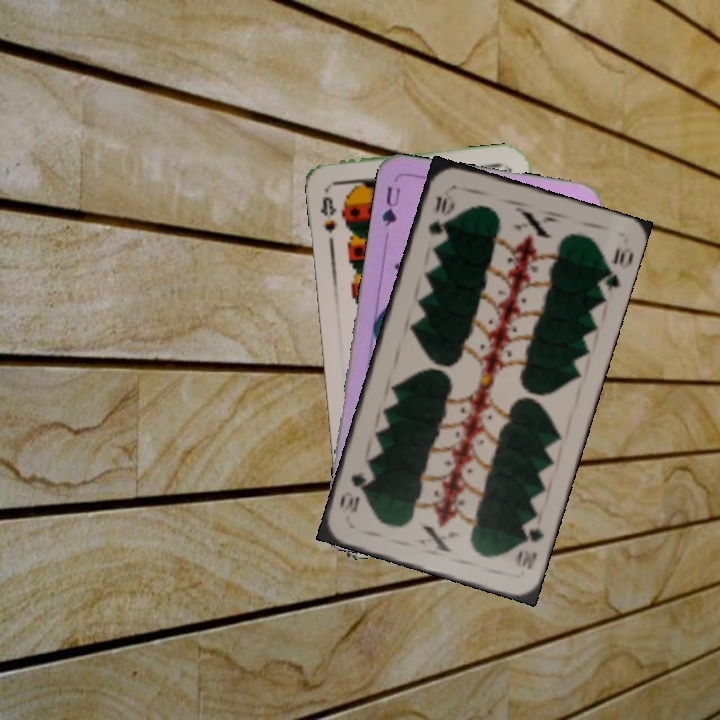G10: (512, 515, 547, 572), (424, 186, 453, 238)
GU: (378, 182, 403, 229)
S8: (316, 192, 340, 236)
